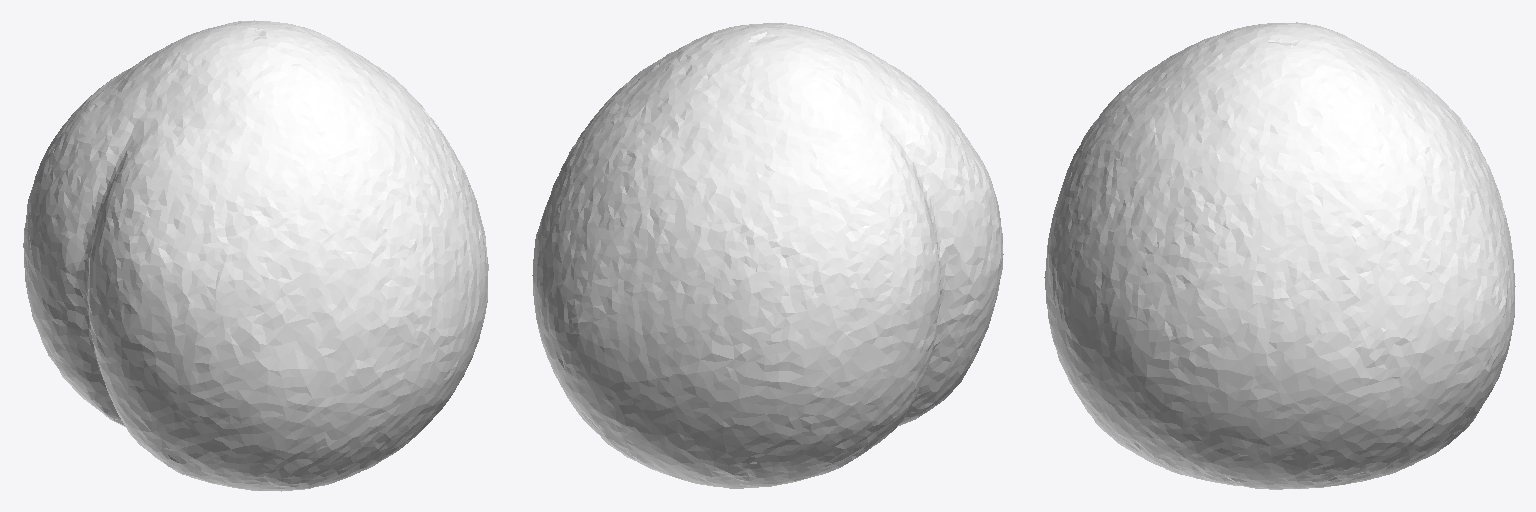
URDF robot description (plum):
<robot name="plum">
    <link name="base_link">
        <visual>
            <origin xyz="0.0 -0.0 -0.0" rpy="0.0 0.0 0.0" />
            <geometry>
                <mesh filename="plum/textured.obj" scale="1 1 1" />
            </geometry>
            <material name="texture">
                <color rgba="1.0 1.0 1.0 1.0" />
            </material>
        </visual>
        <collision>
            <origin xyz="0.0 -0.0 -0.0" rpy="0.0 0.0 0.0" />
            <geometry>
                <mesh filename="plum/textured_coacd_0.stl" scale="1 1 1" />
            </geometry>
        </collision>
        <collision>
            <origin xyz="0.0 -0.0 -0.0" rpy="0.0 0.0 0.0" />
            <geometry>
                <mesh filename="plum/textured_coacd_1.stl" scale="1 1 1" />
            </geometry>
        </collision>
        <collision>
            <origin xyz="0.0 -0.0 -0.0" rpy="0.0 0.0 0.0" />
            <geometry>
                <mesh filename="plum/textured_coacd_2.stl" scale="1 1 1" />
            </geometry>
        </collision>
        <collision>
            <origin xyz="0.0 -0.0 -0.0" rpy="0.0 0.0 0.0" />
            <geometry>
                <mesh filename="plum/textured_coacd_3.stl" scale="1 1 1" />
            </geometry>
        </collision>
        <collision>
            <origin xyz="0.0 -0.0 -0.0" rpy="0.0 0.0 0.0" />
            <geometry>
                <mesh filename="plum/textured_coacd_4.stl" scale="1 1 1" />
            </geometry>
        </collision>
        <inertial>
            <mass value="0.025" />
            <inertia ixx="1e-3" ixy="0.0" ixz="0.0" iyy="1e-3" iyz="0.0" izz="1e-3" />
        </inertial>
    </link>
</robot>

--- What the picture shows (computed from the rendered views, not written in the file) ---
The picture shows the robot from 3 angles, left to right: view 1: azimuth 30°, elevation 25°; view 2: azimuth 150°, elevation 25°; view 3: azimuth 270°, elevation 25°; orthographic projection.
Model plum with 1 links and 0 joints (none), rooted at base_link, posed every joint at zero.
Links seen in each view (by area): view 1: base_link; view 2: base_link; view 3: base_link.
Boxes of the visible links, x1,y1,x2,y2 form: base_link: (23,20,488,491); base_link: (532,23,1003,488); base_link: (1044,22,1515,489).
Bounding box of the posed robot: 0.0529 × 0.0557 × 0.053 m (x, y, z).
Meshes: 1 distinct files referenced, 1 mesh visuals loaded (1 OBJ).